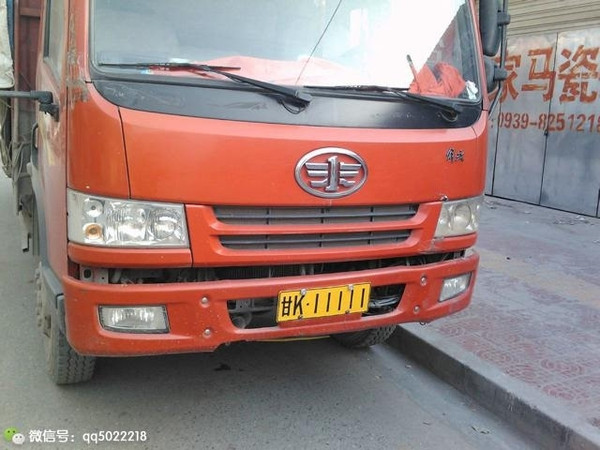甘K11111: (273, 282, 370, 323)
